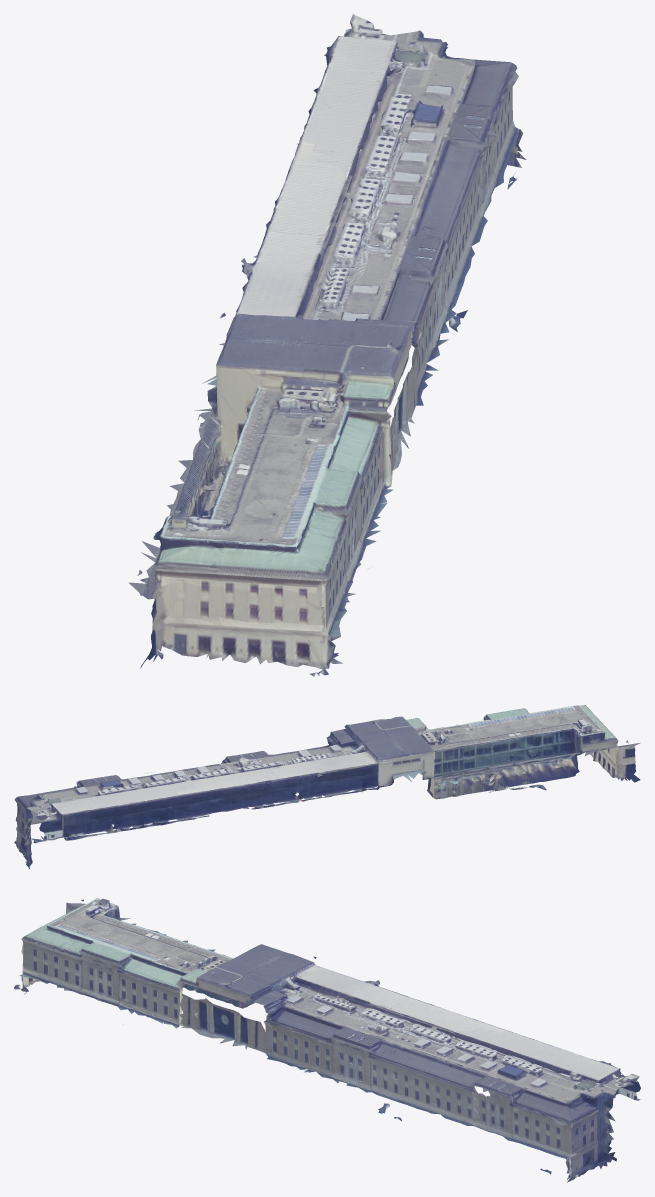
File: gare-cornavin.glb
The picture shows the model from 3 angles, top to bottom: view 1: azimuth 30°, elevation 25°; view 2: azimuth 150°, elevation 25°; view 3: azimuth 270°, elevation 25°; orthographic projection. The views are drawn at different scales.
Bounding box in the file's own units: 135 × 22.36 × 155.
4 materials, 4 textured.
